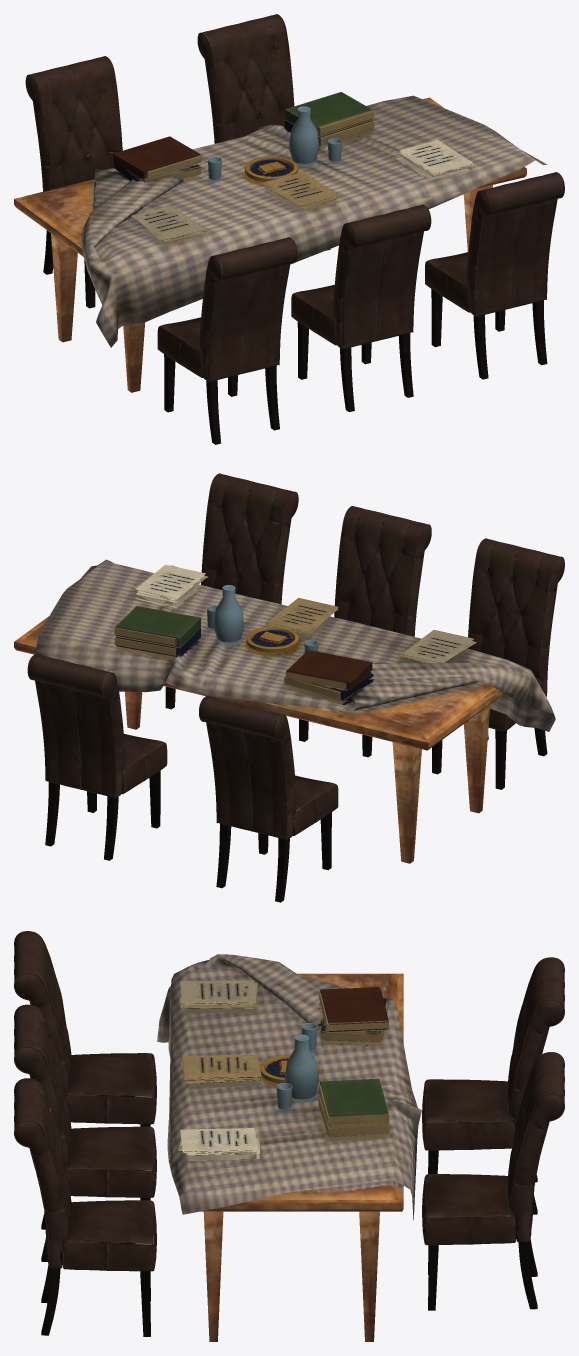
File: arbitration_table.glb
3 renders of one model, top to bottom at view 1: azimuth 30°, elevation 25°; view 2: azimuth 150°, elevation 25°; view 3: azimuth 270°, elevation 25°, orthographic. The views are drawn at different scales.
Parts seen in each view (by area): view 1: arbitration_table; view 2: arbitration_table; view 3: arbitration_table.
Part boxes in pixels (x1,y1,x2,y2): arbitration_table: (14, 14, 564, 444); arbitration_table: (14, 473, 564, 902); arbitration_table: (14, 931, 564, 1341).
Size of the model in its own units: 2.4 by 1.01 by 2.21.
Materials: 4 (4 with a texture image).
